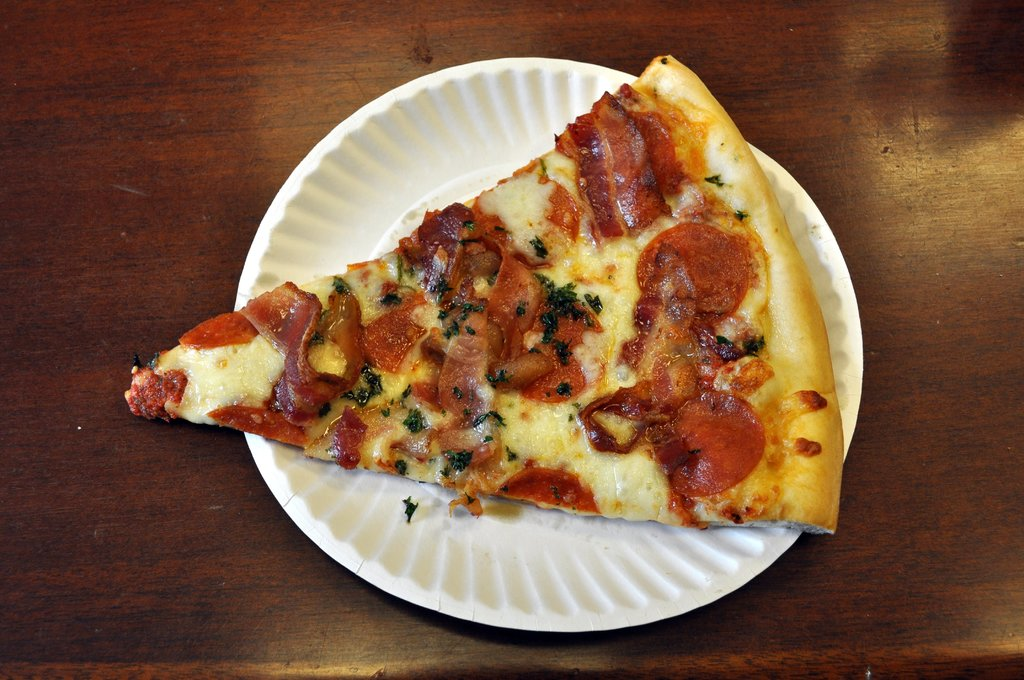Pizza: (199, 111, 858, 533)
